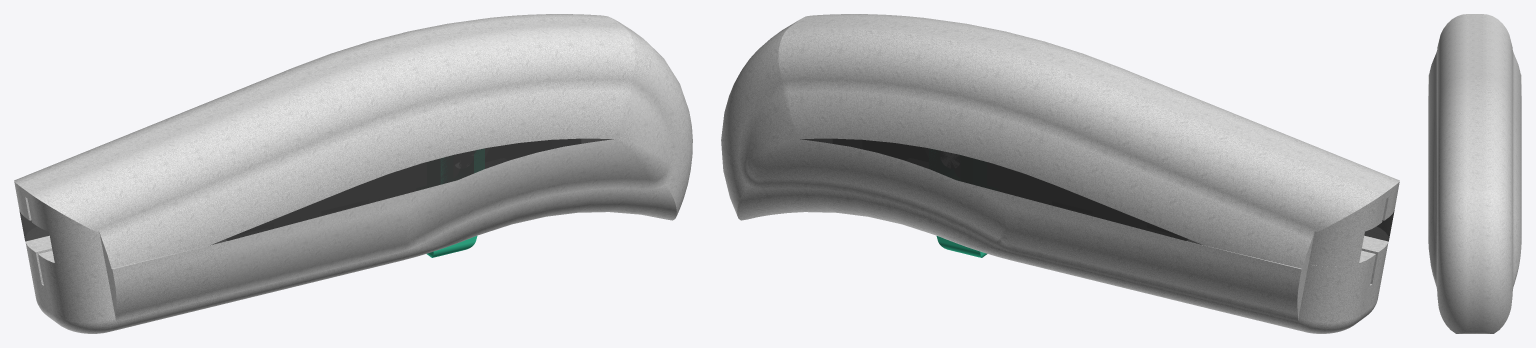
Rendered from Gravity_cutter.glb.
The picture shows the model from 3 angles, left to right: view 1: azimuth 30°, elevation 25°; view 2: azimuth 150°, elevation 25°; view 3: azimuth 270°, elevation 25°; orthographic projection. The views are drawn at different scales.
Visible parts, largest first — view 1: Body6, Body11, Body1, Body12; view 2: Body1, Body11, Body6; view 3: Body1, Body6.
Part boxes in pixels (left/top/right/bottom): Body6: left=25, top=21, right=692, bottom=305; Body11: left=25, top=235, right=227, bottom=333; Body1: left=14, top=14, right=635, bottom=241; Body12: left=427, top=149, right=484, bottom=257; Body1: left=721, top=21, right=1388, bottom=305; Body11: left=1186, top=234, right=1388, bottom=333; Body6: left=778, top=14, right=1399, bottom=241; Body1: left=1475, top=14, right=1521, bottom=333; Body6: left=1428, top=14, right=1474, bottom=333.
Size of the model in its own units: 0.1659 by 0.0554 by 0.031.
Materials: 5 (2 with a texture image).
